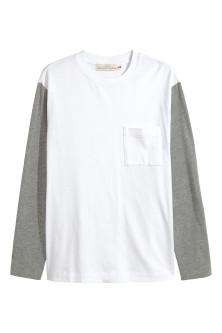teeshirt: (6, 48, 215, 325)
